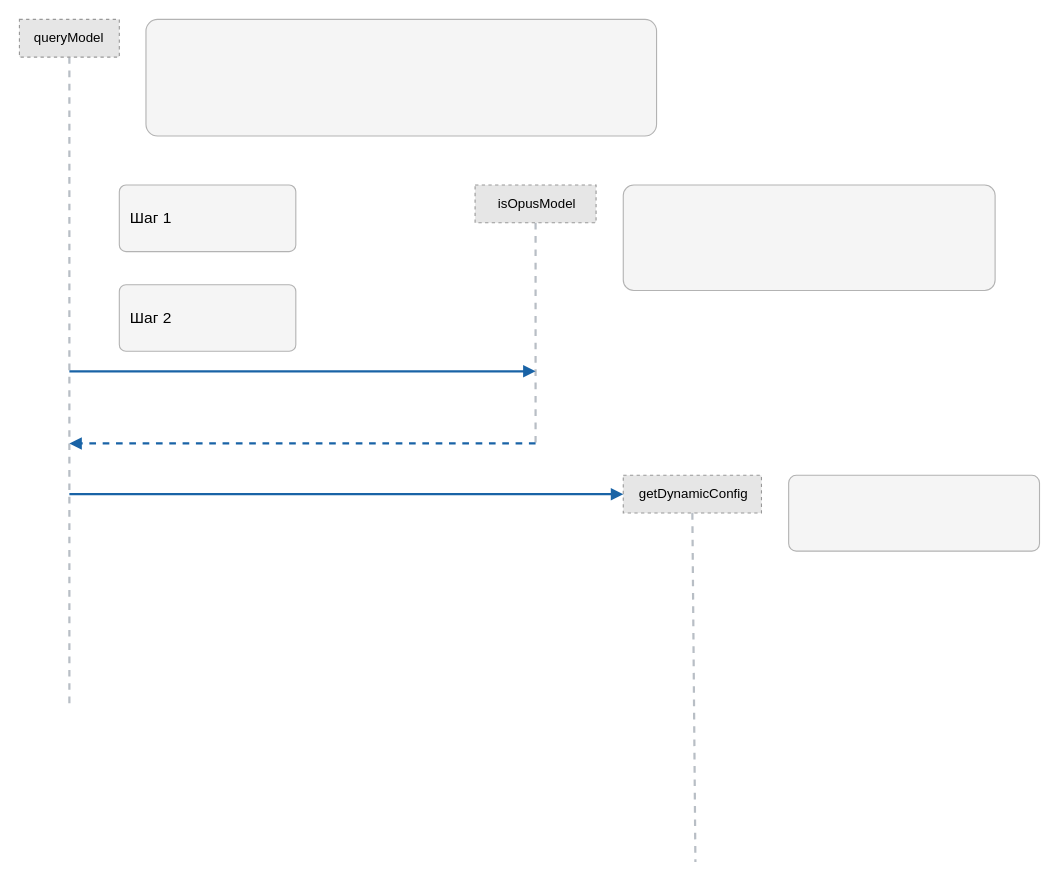
Some shapes in this 1059 by 884 pixel diagram are drawn without their labels. Grey dashed boxes stand in for pictures. Here are the shapes that lost their labels. From the top down, the centre of each, then its label:
At (x=401, y=77): "... проверяет какая модель выбрана и доступна ли она ...".
At (x=808, y=237): "Проверяет выбрана ли чувствительная модель".
At (x=914, y=512): "Проверяет доступность модели".
